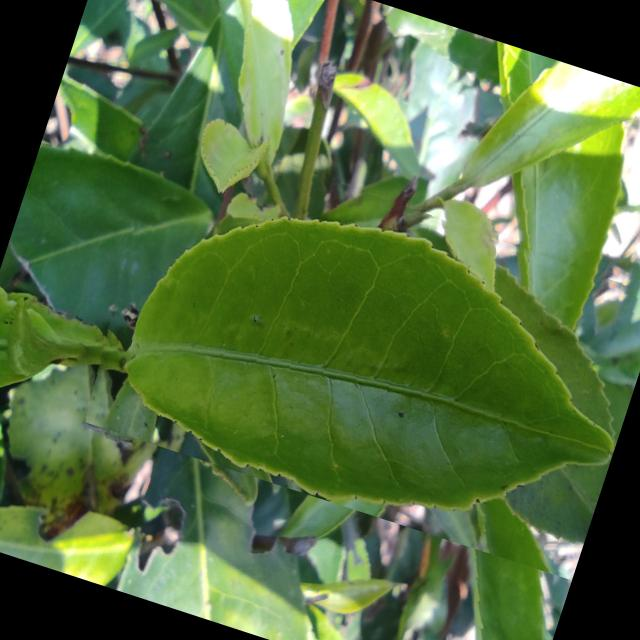Category C(4-7 days): (65, 119, 640, 580)
